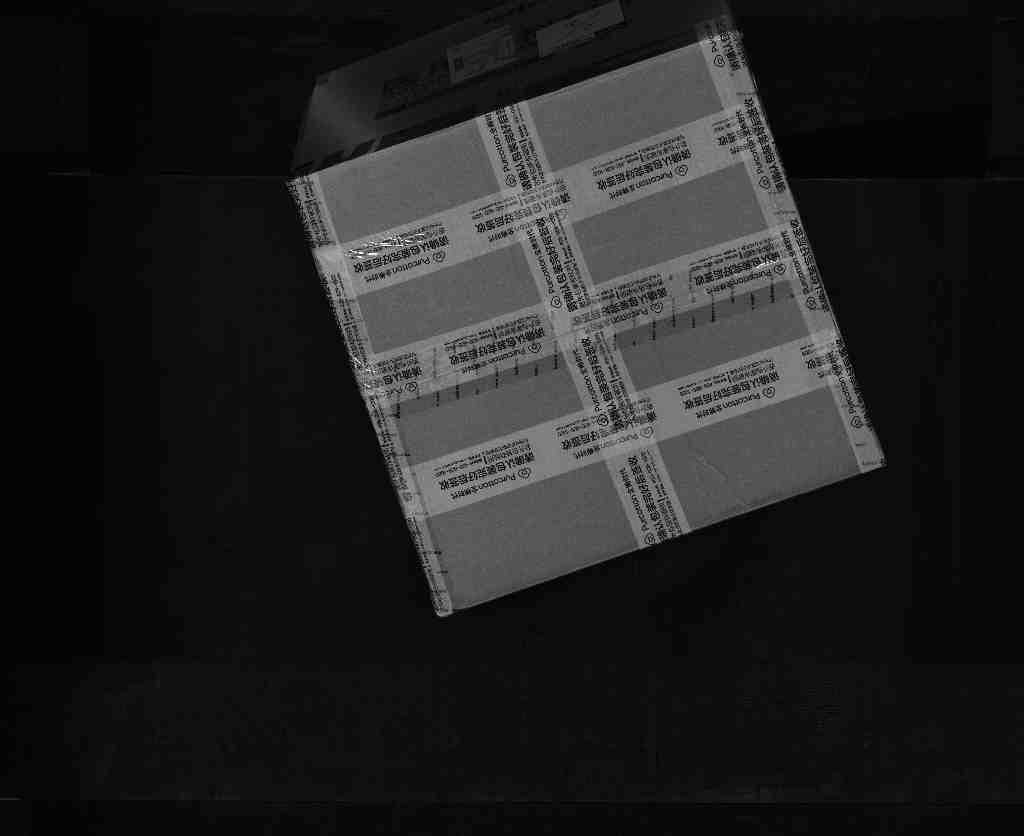box: (282, 13, 907, 617)
